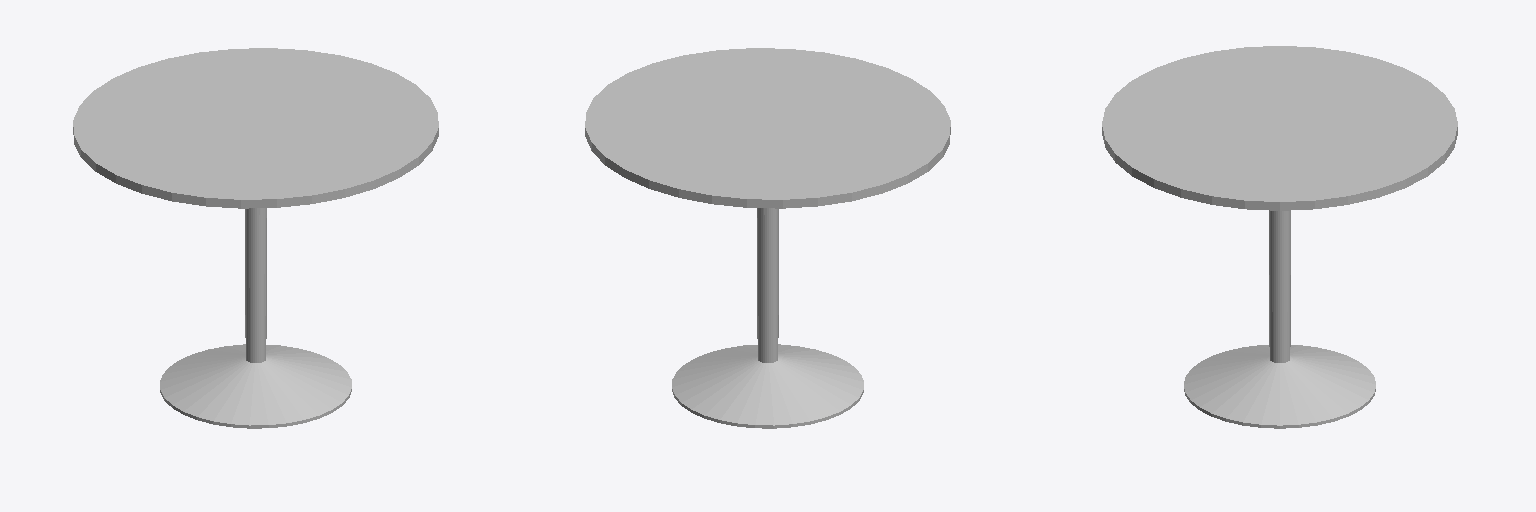
The model's file is TableRonde.obj.
The picture shows the model from 3 angles: view 1: azimuth 30°, elevation 25°; view 2: azimuth 150°, elevation 25°; view 3: azimuth 270°, elevation 25°; orthographic projection.
Size of the model in its own units: 1.34 by 1.06 by 1.29.